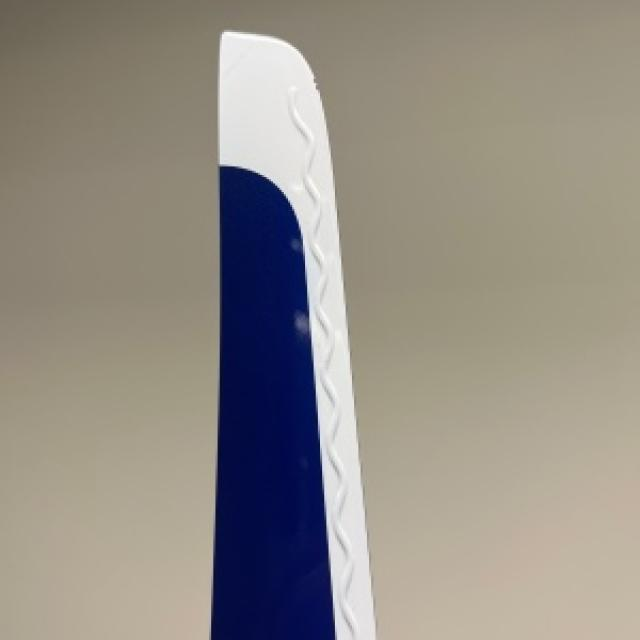healthy: (211, 32, 371, 638)
